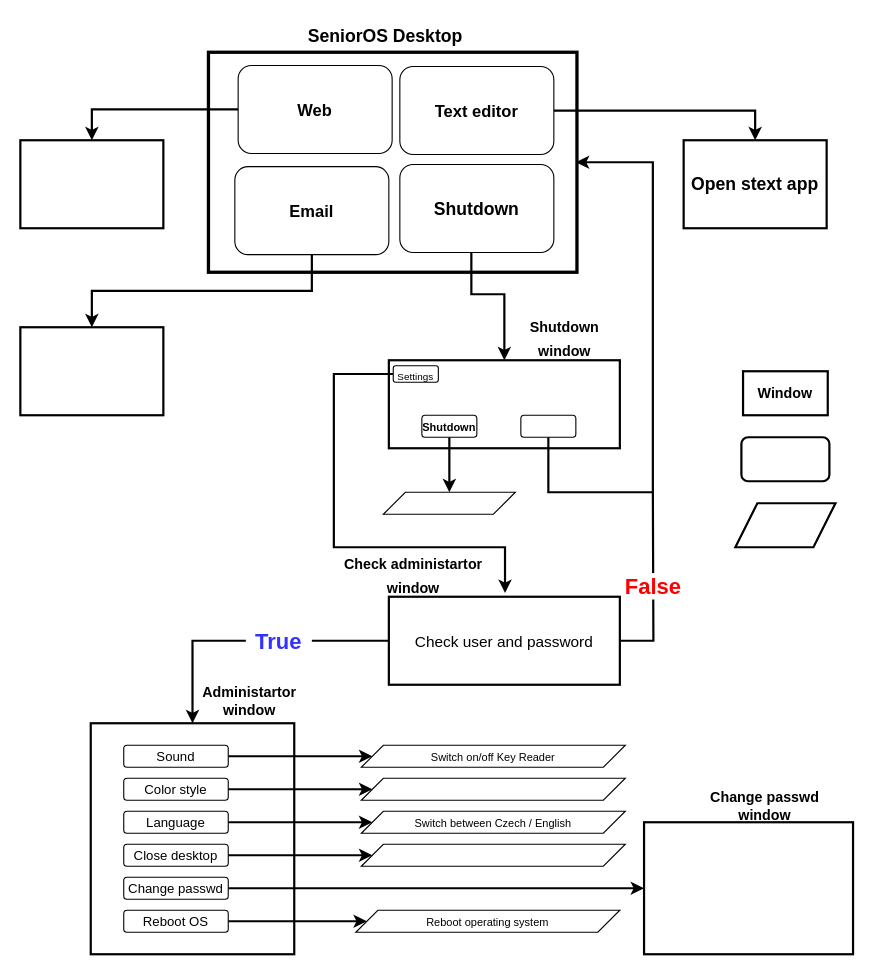
Image size: 872x974. Some labels were removed from this diagram. Each missing label, with the centre of its shape:
"Action" belongs at (785,525).
"Button" belongs at (785,459).
"Cancel" belongs at (548,425).
"Close the main desktopwindow" belongs at (492,854).
"Open smail app" belongs at (91,371).
"Open sweb app" belongs at (91,184).
"Reset Username and Password" belongs at (748,888).
"Shut down OS" belongs at (448,502).
"Switch between Colorful / Monochrome mod" belongs at (492,788).
